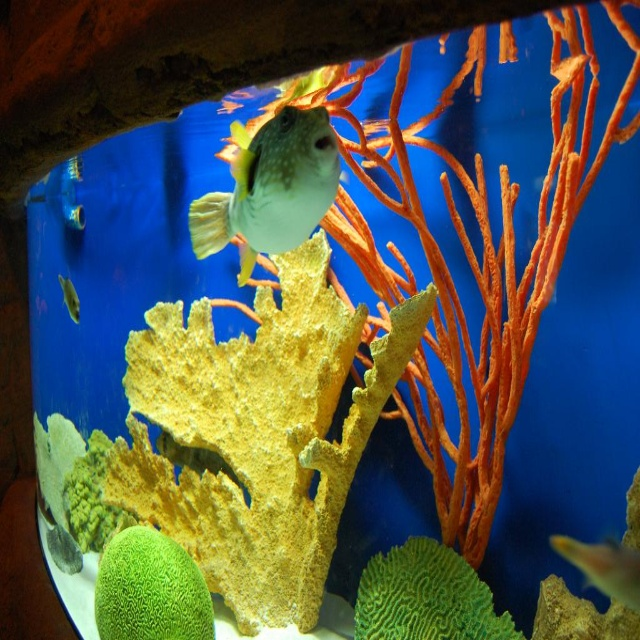Fish: (186, 102, 358, 279)
